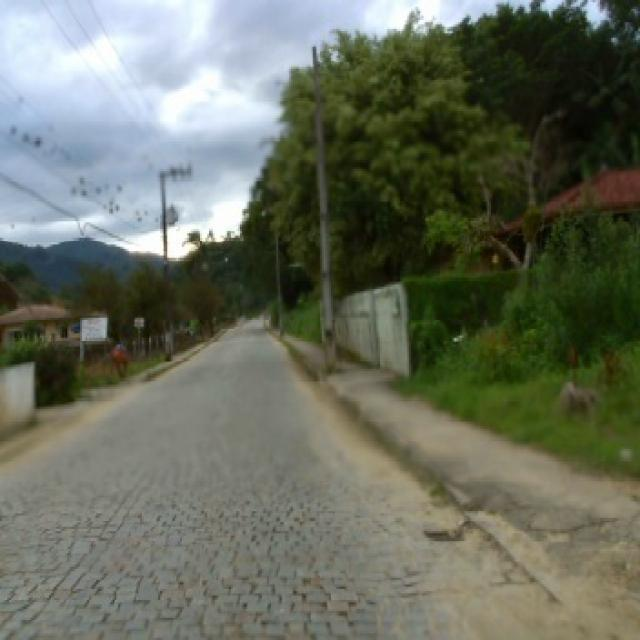Poth-hole: (418, 514, 473, 542)
